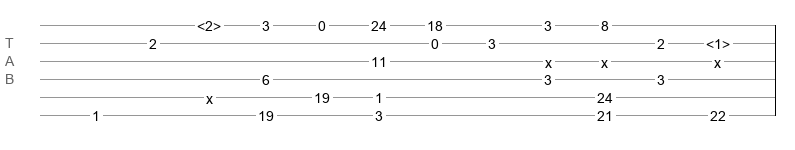0: (318, 18, 326, 28), (431, 36, 439, 46)
1: (92, 108, 100, 118), (375, 90, 383, 100)
11: (371, 54, 387, 64)
18: (427, 18, 443, 28)
19: (258, 108, 274, 118), (314, 90, 330, 100)
2: (149, 36, 157, 46), (657, 36, 665, 46)
21: (597, 108, 613, 118)
22: (710, 108, 726, 118)
24: (371, 18, 387, 28), (597, 90, 613, 100)
3: (262, 18, 270, 28), (375, 108, 383, 118), (488, 36, 496, 46), (544, 72, 552, 82), (544, 18, 552, 28), (657, 72, 665, 82)
6: (262, 72, 270, 82)
8: (601, 18, 609, 28)
harmonic: (197, 18, 221, 28), (706, 36, 730, 46)
x: (206, 91, 213, 99), (545, 55, 552, 63), (601, 55, 608, 63), (714, 55, 721, 63)
